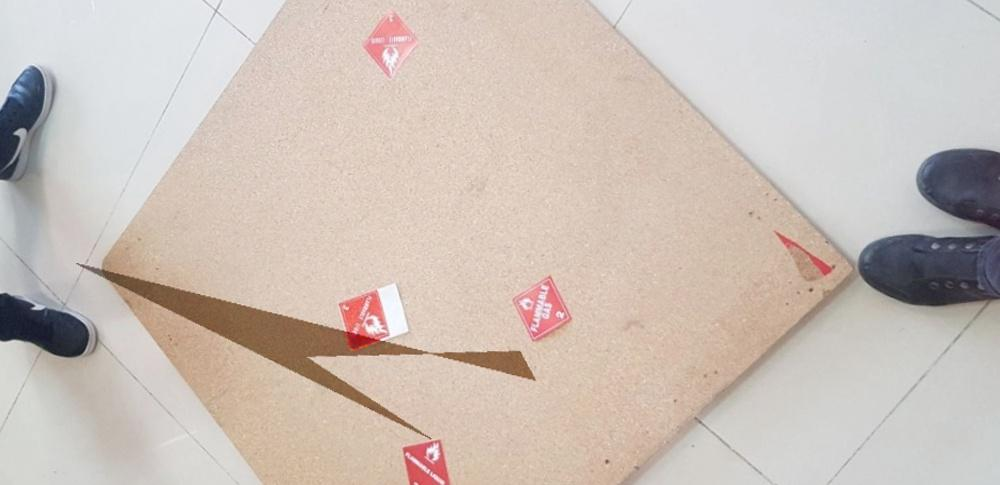flammable: (507, 270, 573, 342), (359, 10, 423, 79), (338, 288, 388, 350), (398, 438, 451, 485)
